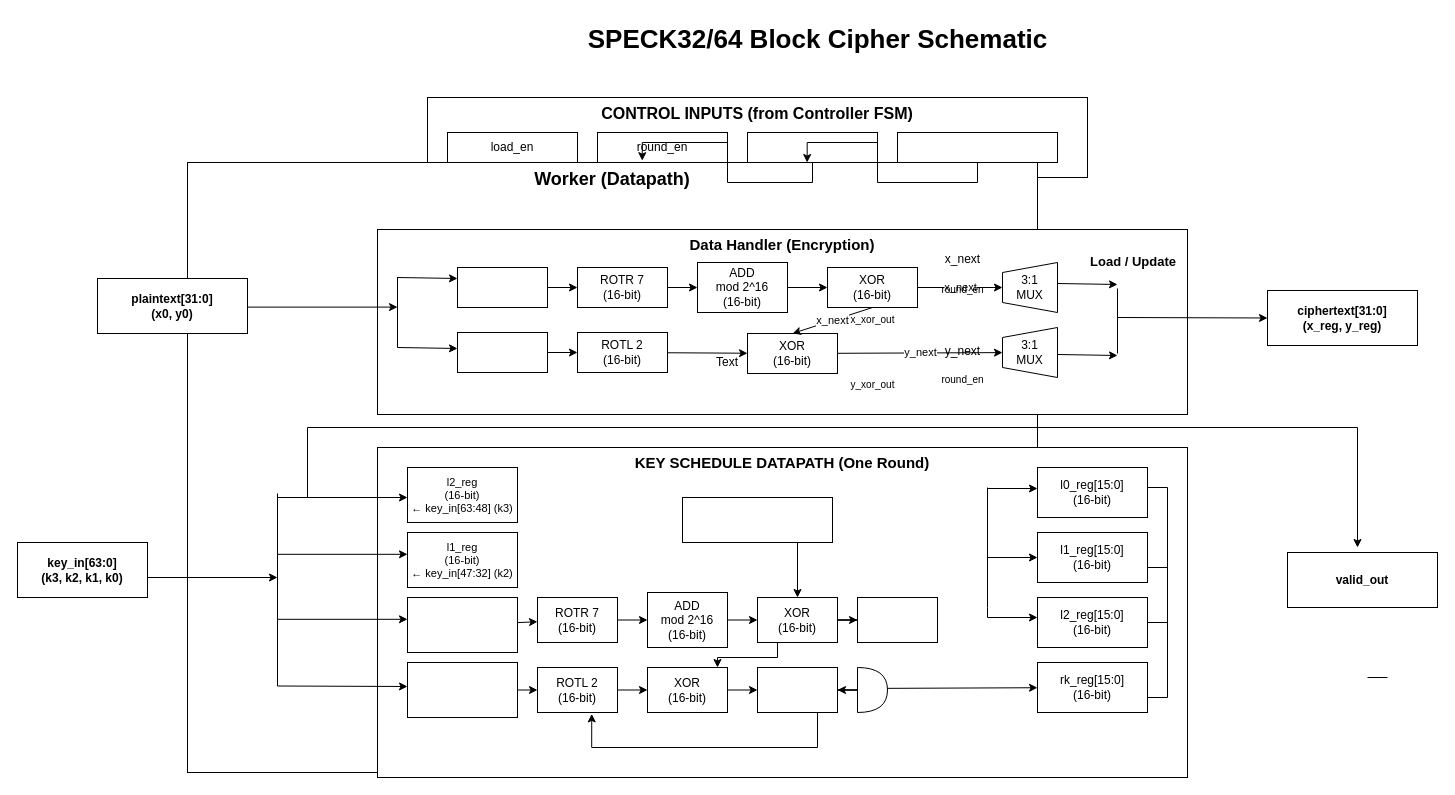
Some shapes in this 1455 by 795 pixel diagram are drawn without their labels. Here are the shapes that lost their labels. From the top down, the centre of each, then its label:
At (812,147): "key_update_en".
At (977,147): "round_index[4:0]".
At (502,287): "x_reg[15:0]".
At (502,352): "y_reg[15:0]".
At (757,519): "round_index[4:0] (5-bit) (Zero-extended to 16-bit)".
At (462,624): "l0_reg (16-bit) ← key_in[31:16] (k1)".
At (897,619): "l_new (16-bit)".
At (462,690): "rk_reg (16-bit) ← key_in[15:0] (k0)".
At (797,689): "rk_next (16-bit)".
